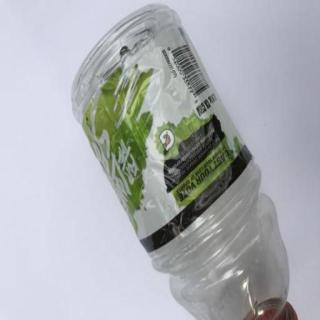Plastic-bottle: (71, 2, 301, 320)
